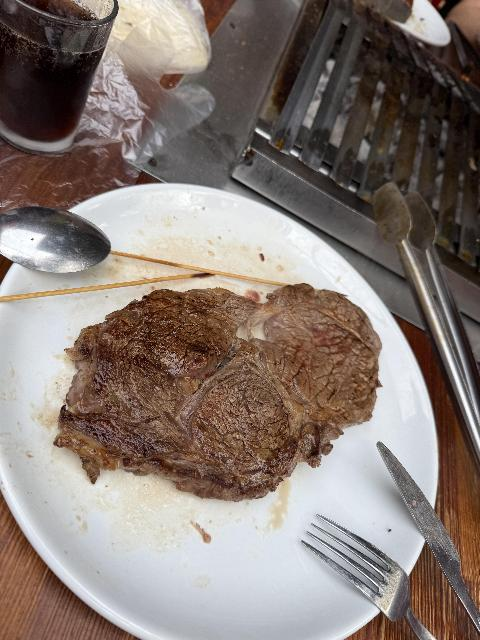Cam: (0, 0, 118, 137)
Metal: (257, 40, 356, 172), (376, 196, 437, 260)
Organik: (64, 289, 372, 469)
Plastik: (114, 19, 177, 138)
